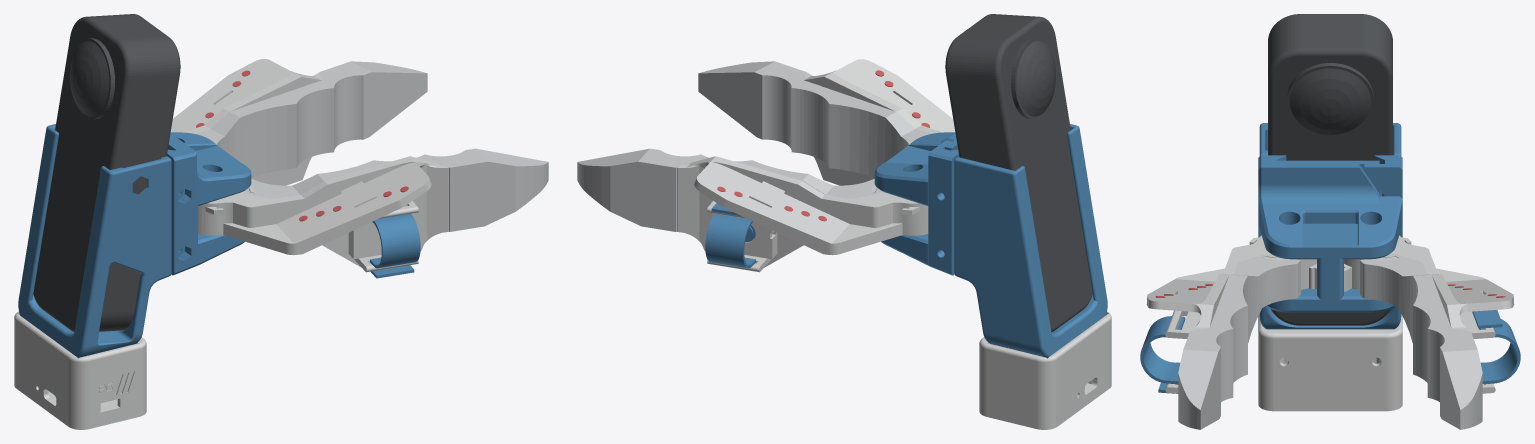
Rendered from pg_chopstick_data_left.glb.
The picture shows the model from 3 angles, left to right: view 1: azimuth 30°, elevation 25°; view 2: azimuth 150°, elevation 25°; view 3: azimuth 270°, elevation 25°; orthographic projection. The views are drawn at different scales.
Visible parts, largest first — view 1: insta360_x5_envelope, x5_lite_frame, jaw_right_dc, tip_tpu_left, pg_pod, tip_tpu_right, chopstick_base_dc, jaw_left_dc_button, sleeve_strap_right, pg_pod_lid; view 2: insta360_x5_envelope, x5_lite_frame, jaw_left_dc_button, tip_tpu_right, pg_pod, tip_tpu_left, jaw_right_dc, chopstick_base_dc, chopstick_clip_dc, sleeve_strap_left, pg_pod_lid; view 3: insta360_x5_envelope, chopstick_base_dc, pg_pod, tip_tpu_left, tip_tpu_right, jaw_right_dc, jaw_left_dc_button, x5_lite_frame, sleeve_strap_left, sleeve_strap_right, chopstick_clip_dc, pg_pod_lid.
Part boxes in pixels (x1,y1,x2,y2): insta360_x5_envelope: (33, 14, 180, 331); x5_lite_frame: (18, 124, 171, 358); jaw_right_dc: (198, 156, 448, 272); tip_tpu_left: (196, 61, 427, 177); pg_pod: (14, 311, 146, 425); tip_tpu_right: (245, 148, 548, 231); chopstick_base_dc: (167, 132, 251, 275); jaw_left_dc_button: (170, 59, 321, 185); sleeve_strap_right: (370, 213, 420, 278); pg_pod_lid: (14, 382, 146, 429); insta360_x5_envelope: (945, 14, 1092, 331); x5_lite_frame: (954, 124, 1107, 358); jaw_left_dc_button: (677, 156, 928, 272); tip_tpu_right: (698, 61, 929, 177); pg_pod: (979, 311, 1111, 425); tip_tpu_left: (577, 148, 880, 231); jaw_right_dc: (804, 59, 955, 185); chopstick_base_dc: (874, 132, 957, 265); chopstick_clip_dc: (928, 140, 959, 275); sleeve_strap_left: (705, 203, 755, 268); pg_pod_lid: (979, 382, 1111, 429); insta360_x5_envelope: (1268, 14, 1392, 325); chopstick_base_dc: (1258, 155, 1402, 312); pg_pod: (1258, 314, 1402, 406); tip_tpu_left: (1360, 254, 1482, 429); tip_tpu_right: (1178, 254, 1300, 429); jaw_right_dc: (1146, 235, 1316, 393); jaw_left_dc_button: (1344, 235, 1514, 393); x5_lite_frame: (1259, 123, 1401, 329); sleeve_strap_left: (1472, 310, 1520, 384); sleeve_strap_right: (1140, 316, 1185, 393); chopstick_clip_dc: (1364, 155, 1402, 237); pg_pod_lid: (1258, 401, 1402, 411).
Bounding box in the file's own units: 0.2033 × 0.1583 × 0.14.
